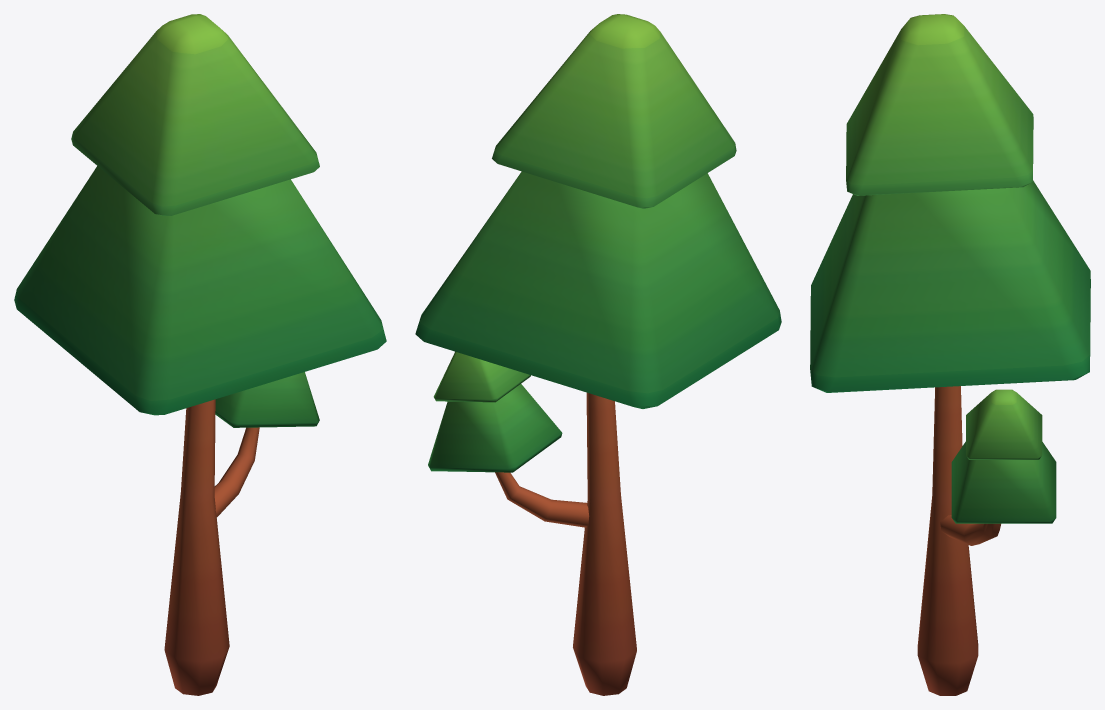
File: Tree_4_A.glb
The picture shows the model from 3 angles, left to right: view 1: azimuth 30°, elevation 25°; view 2: azimuth 150°, elevation 25°; view 3: azimuth 270°, elevation 25°; orthographic projection.
Visible parts, largest first — view 1: Tree_4_A_Color1; view 2: Tree_4_A_Color1; view 3: Tree_4_A_Color1.
Boxes of the visible parts, x1,y1,x2,y2 form: Tree_4_A_Color1: (14,14,386,695); Tree_4_A_Color1: (415,14,781,695); Tree_4_A_Color1: (810,14,1090,695).
Size of the model in its own units: 2.01 by 5.27 by 2.
1 material, 1 textured.
